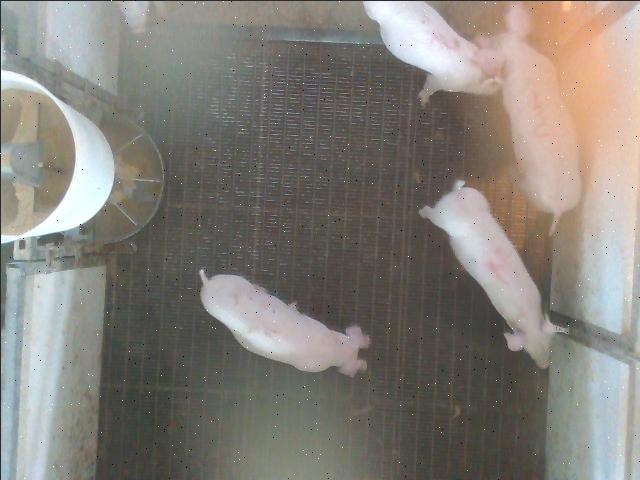pig-3: (475, 3, 580, 232)
pig-4: (419, 180, 554, 368)
pig-5: (362, 2, 500, 102)
